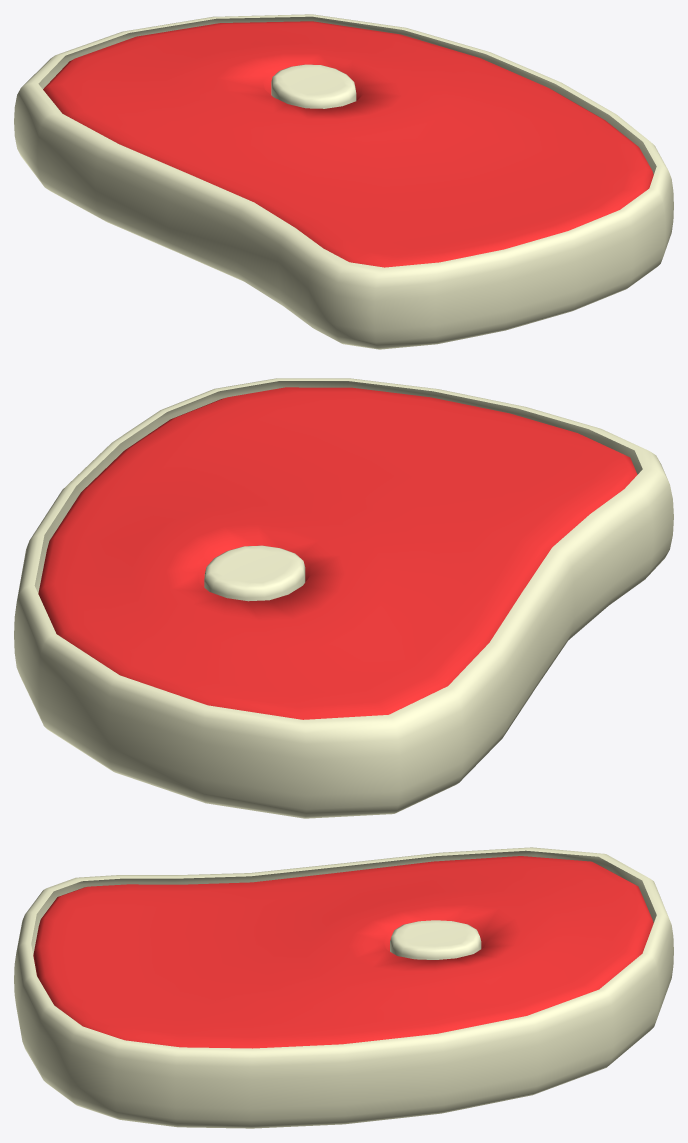
The model's file is raw-steak.fbx.
The picture shows the model from 3 angles, top to bottom: view 1: azimuth 30°, elevation 25°; view 2: azimuth 150°, elevation 25°; view 3: azimuth 270°, elevation 25°; orthographic projection. The views are drawn at different scales.
Parts seen in each view (by area): view 1: Viande, Graisse, Os; view 2: Viande, Graisse, Os; view 3: Viande, Graisse, Os.
Part boxes in pixels (<box>): Viande: <box>43,21,653,267</box>; Graisse: <box>14,14,673,349</box>; Os: <box>271,64,356,108</box>; Viande: <box>38,387,637,719</box>; Graisse: <box>14,378,673,818</box>; Os: <box>204,545,305,601</box>; Viande: <box>33,856,653,1048</box>; Graisse: <box>14,847,673,1128</box>; Os: <box>390,920,481,959</box>.
Size of the model in its own units: 53.93 by 13.68 by 70.28.
